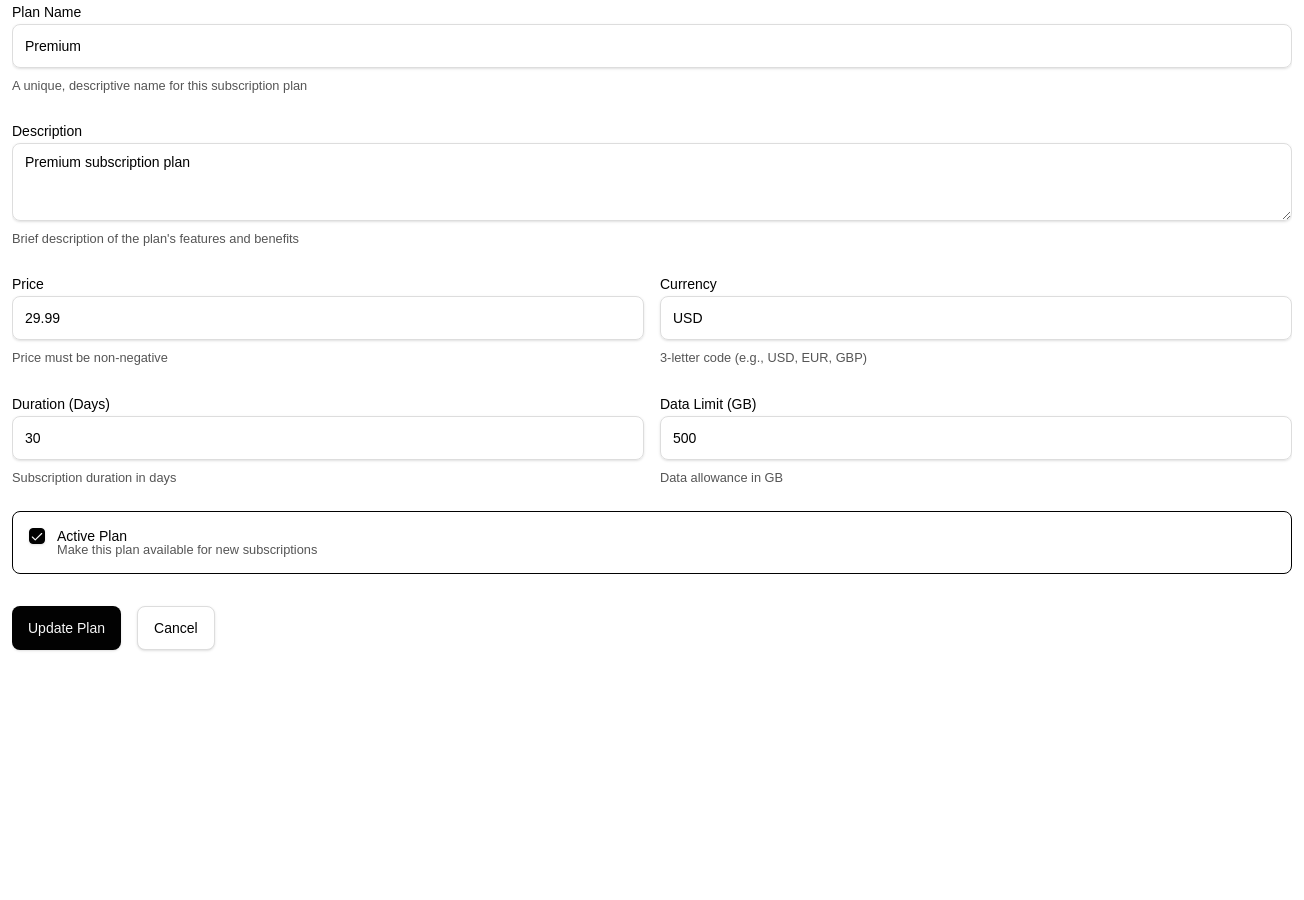
Test: PlanEditForm › validates currency is exactly 3 characters
Type "US" into the field labelled "Currency" at (976, 318), box [660,296,1292,340]
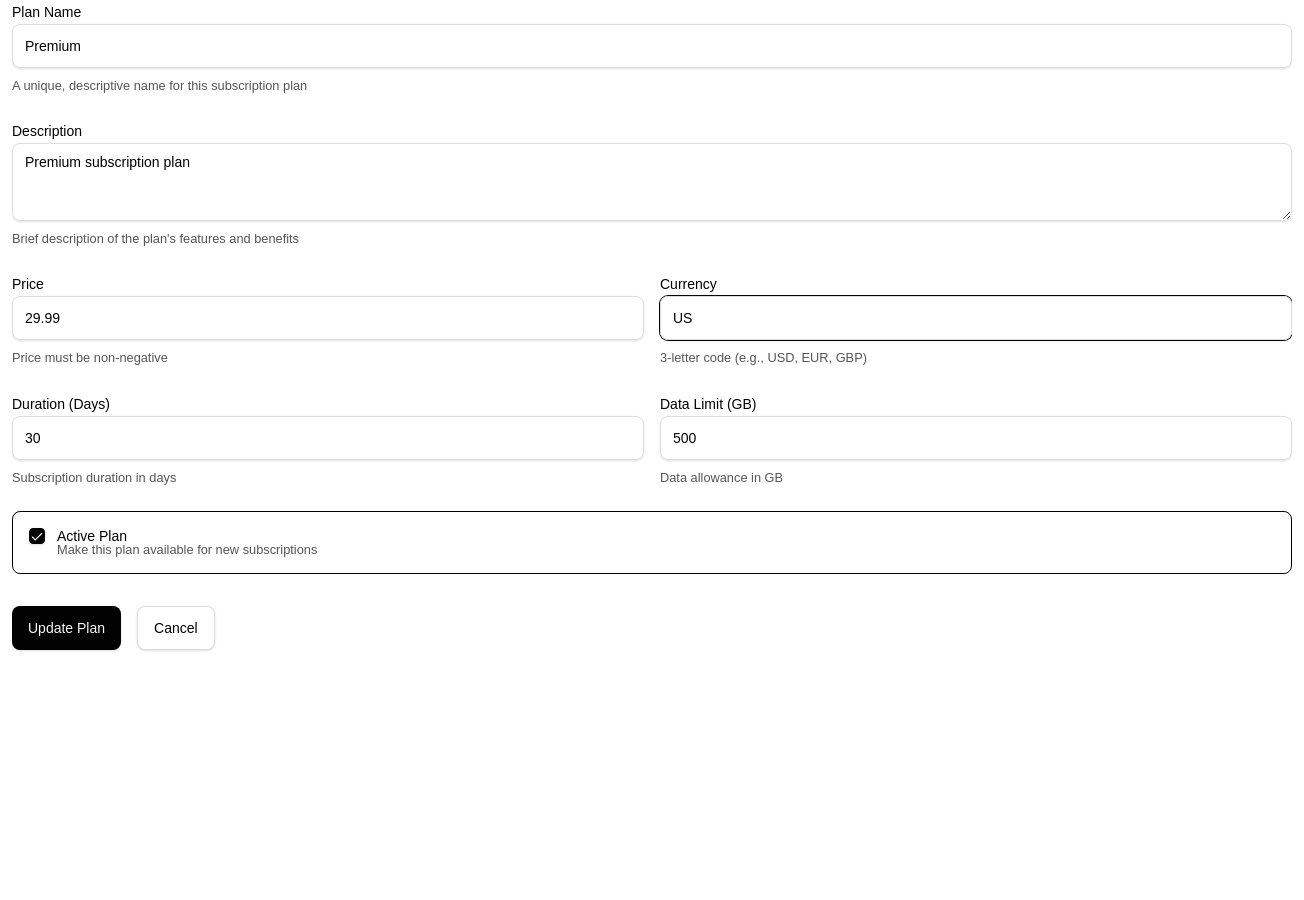
Click the button "Update Plan" at (67, 628), box [12,606,121,650]
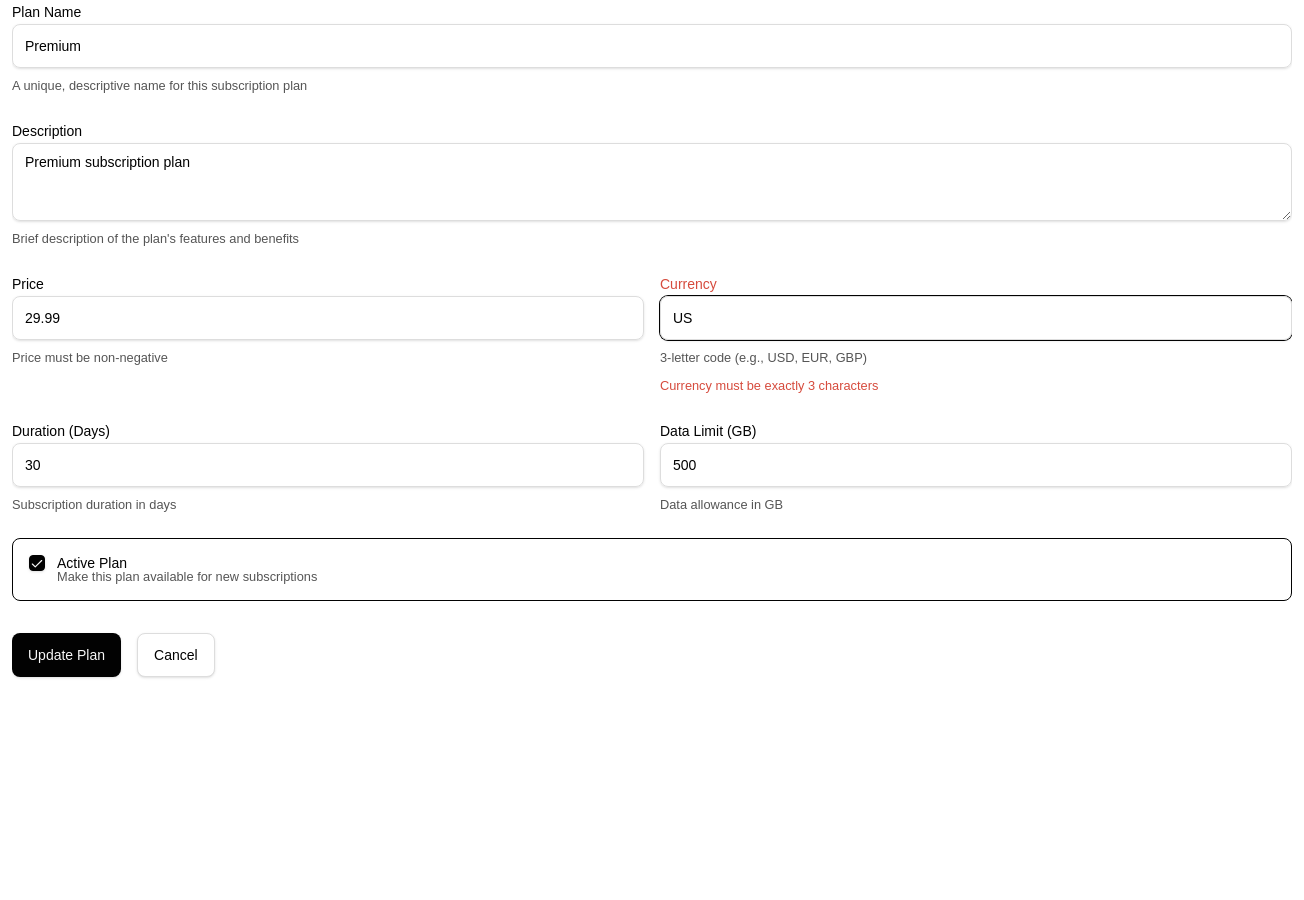
Check: the text "Currency must be exactly 3 characters" is shown, box [660,378,878,393]
